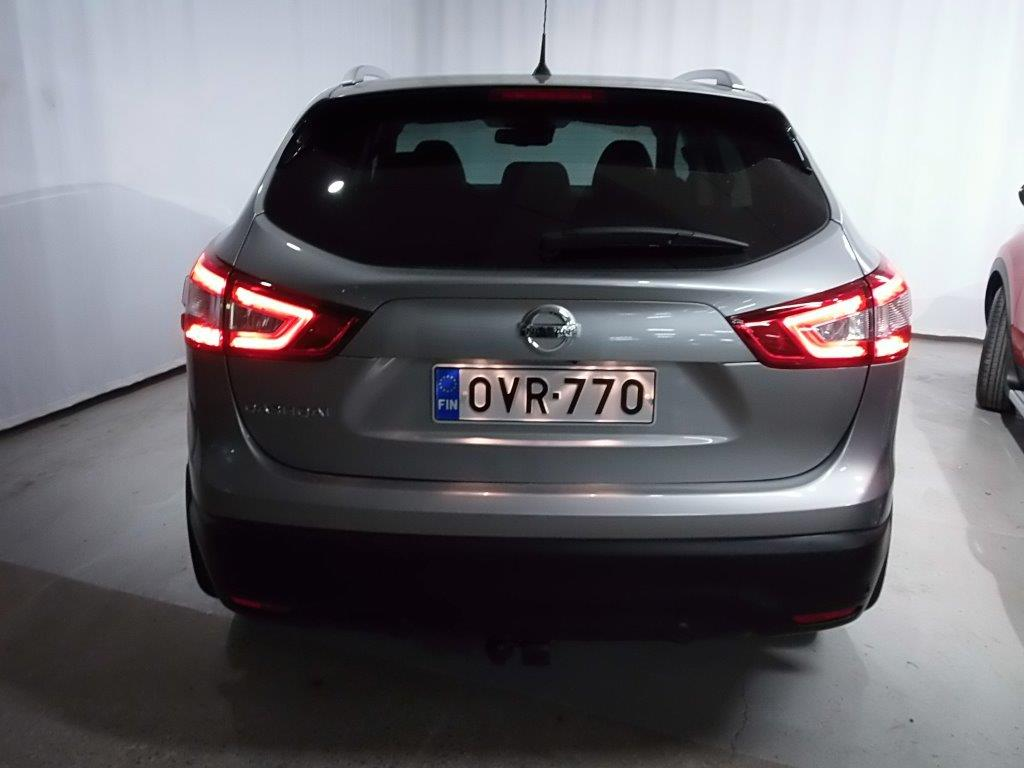license: (430, 358, 656, 429)
